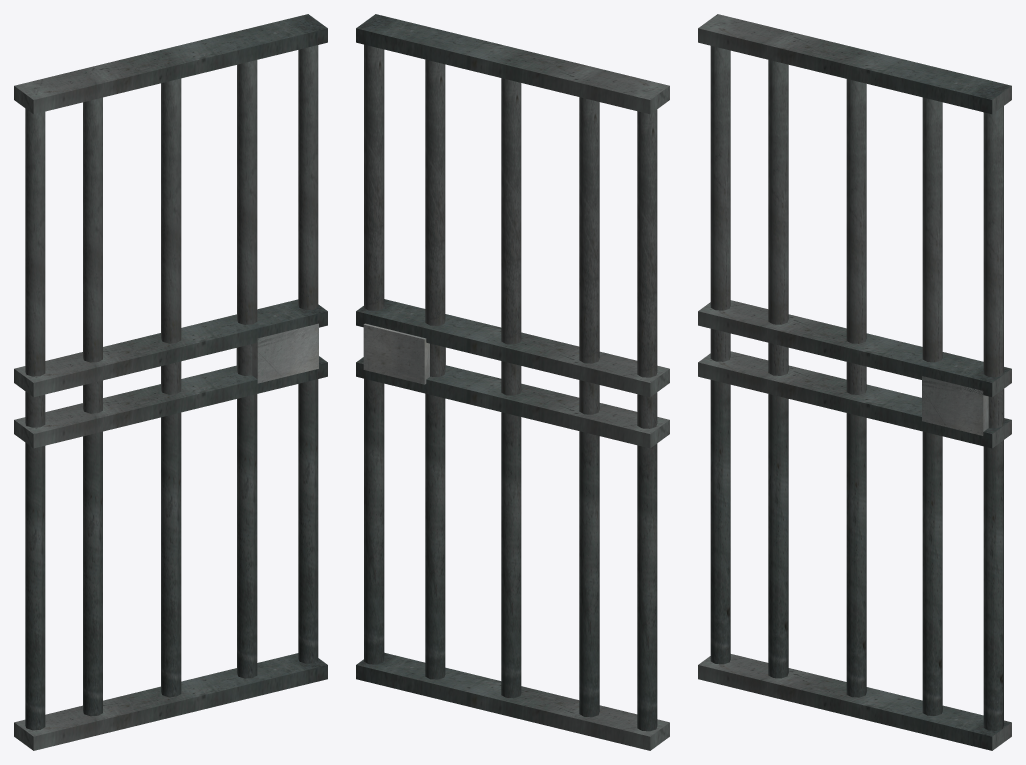
The model's file is Prop_Lvl1_ZoneA_Gate_Door.fbx.
The picture shows the model from 3 angles, left to right: view 1: azimuth 30°, elevation 25°; view 2: azimuth 150°, elevation 25°; view 3: azimuth 330°, elevation 25°; orthographic projection.
Visible parts, largest first — view 1: polySurface35; view 2: polySurface35; view 3: polySurface35.
Part boxes in pixels (x1,y1,x2,y2): polySurface35: [14, 14, 327, 750]; polySurface35: [356, 14, 669, 750]; polySurface35: [698, 14, 1011, 750].
Bounding box in the file's own units: 121 × 256 × 15.02.
